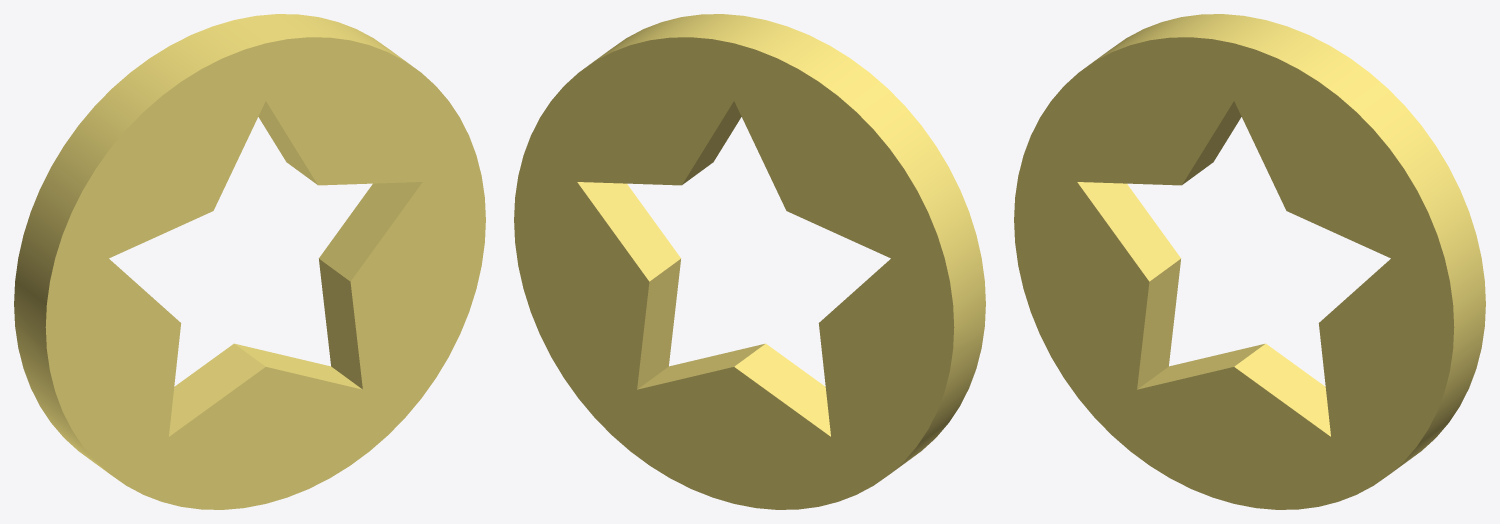
The model's file is Coin.obj.
3 views of the same model, side by side, from view 1: azimuth 30°, elevation 25°; view 2: azimuth 150°, elevation 25°; view 3: azimuth 330°, elevation 25° (orthographic).
Parts seen in each view (by area): view 1: COIN; view 2: COIN; view 3: COIN.
Part boxes in pixels (bbox=[...]): COIN: bbox=[14, 14, 485, 509]; COIN: bbox=[514, 14, 985, 509]; COIN: bbox=[1014, 14, 1485, 509].
Bounding box in the file's own units: 4 × 4 × 0.5.
